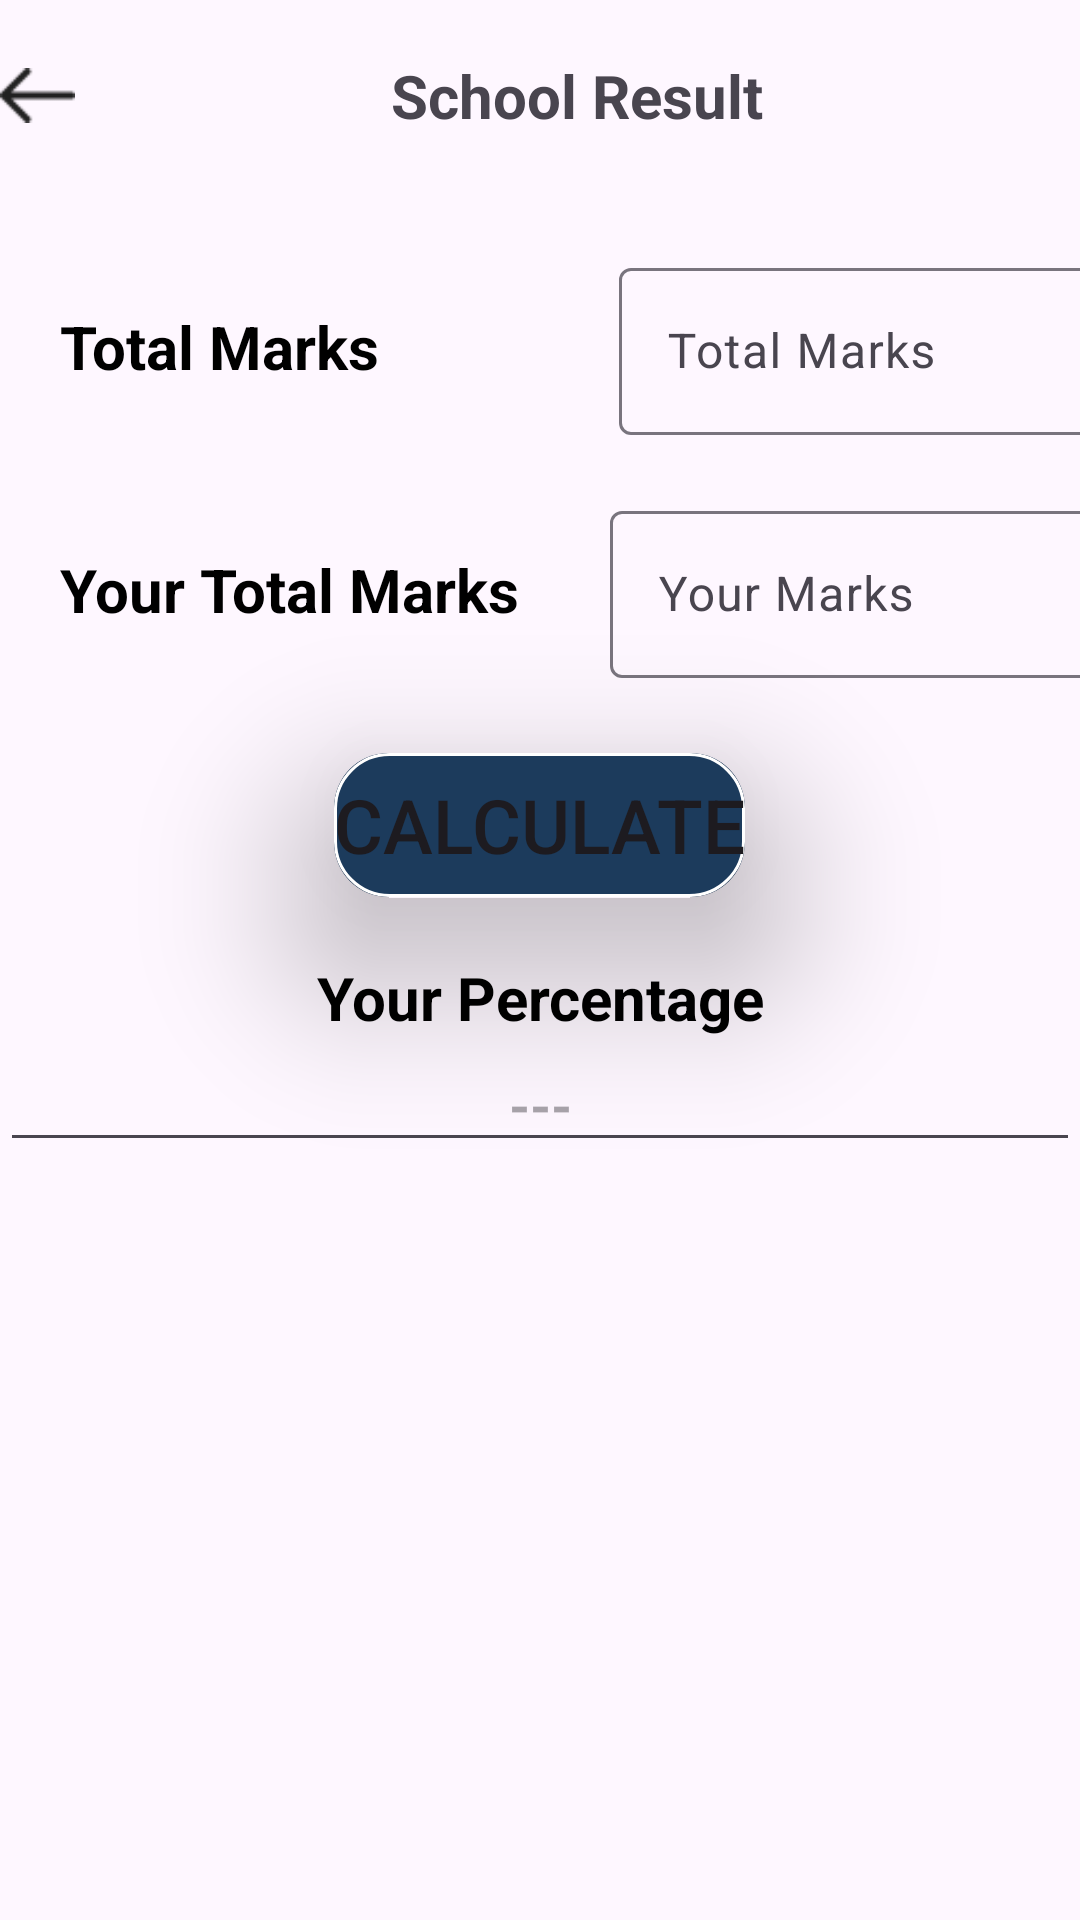

Icons on this 1080px x 1920px Android screen, each with its box as (x1, y1, x2, y2):
backarro: (0, 68, 75, 123)
